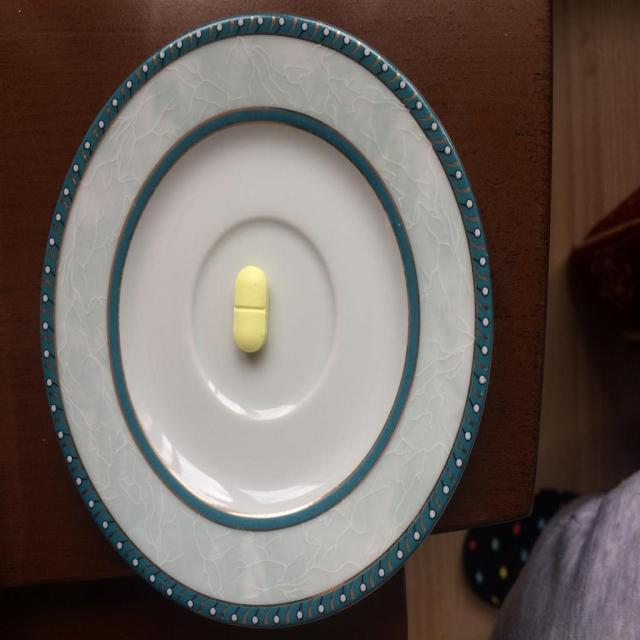pills: (227, 259, 275, 364)
